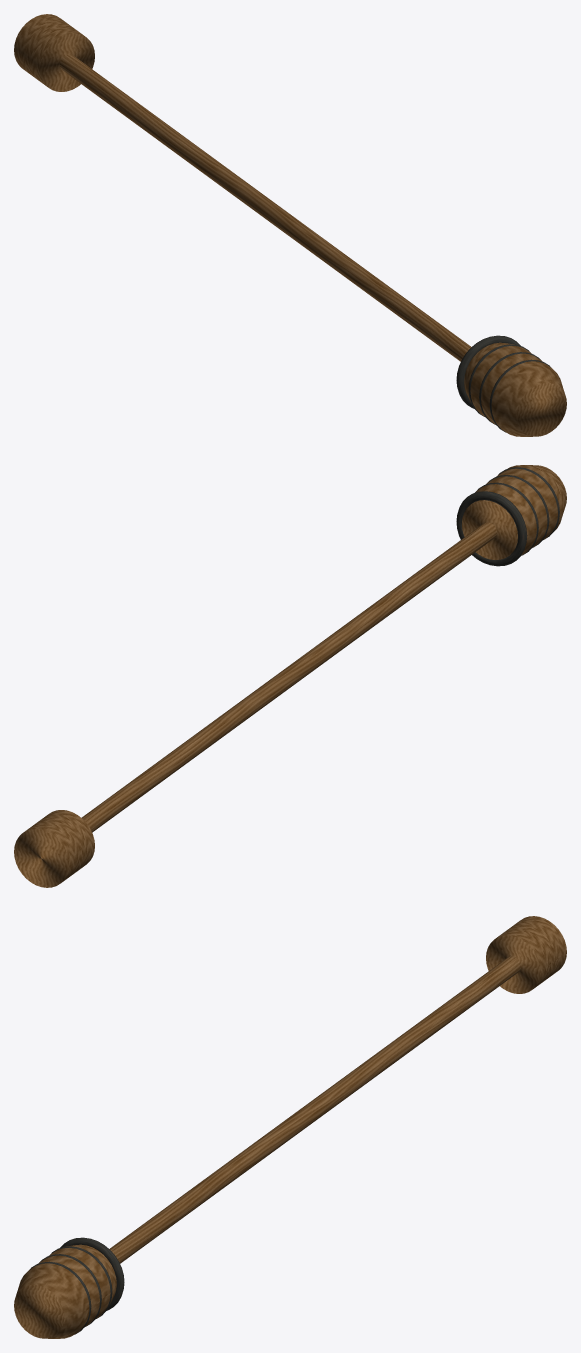
The model's file is ramrod.obj.
3 views of the same model, one above another, from view 1: azimuth 30°, elevation 25°; view 2: azimuth 150°, elevation 25°; view 3: azimuth 330°, elevation 25° (orthographic).
Parts seen in each view (by area): view 1: Two_ended_ash_rammer, Wool_sponge_head, Wood_rammer_head, Sponge_binding_-3.8; view 2: Two_ended_ash_rammer, Wool_sponge_head, Wood_rammer_head, Sponge_binding_-3.8; view 3: Two_ended_ash_rammer, Wool_sponge_head, Wood_rammer_head, Sponge_binding_-3.8.
Part boxes in pixels (left/top/right/bottom): Two_ended_ash_rammer: left=59, top=54, right=471, bottom=361; Wool_sponge_head: left=464, top=342, right=566, bottom=436; Wood_rammer_head: left=14, top=14, right=94, bottom=91; Sponge_binding_-3.8: left=456, top=335, right=520, bottom=408; Two_ended_ash_rammer: left=81, top=522, right=497, bottom=832; Wool_sponge_head: left=462, top=465, right=566, bottom=559; Wood_rammer_head: left=14, top=810, right=94, bottom=887; Sponge_binding_-3.8: left=456, top=491, right=527, bottom=566; Two_ended_ash_rammer: left=109, top=956, right=521, bottom=1263; Wool_sponge_head: left=14, top=1244, right=116, bottom=1338; Wood_rammer_head: left=486, top=916, right=566, bottom=993; Sponge_binding_-3.8: left=60, top=1237, right=124, bottom=1310.
Size of the model in its own units: 0.1912 by 0.1912 by 2.38.
